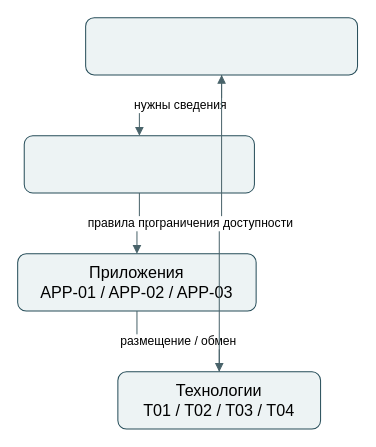
Image size: 376x447. Some labels were removed from this diagram. Each missing label, with the centre of its shape:
"Бизнес кто подтверждает выдачу?" goes at (x=221, y=46).
"Данные OP, количество, статус" goes at (x=138, y=164).
